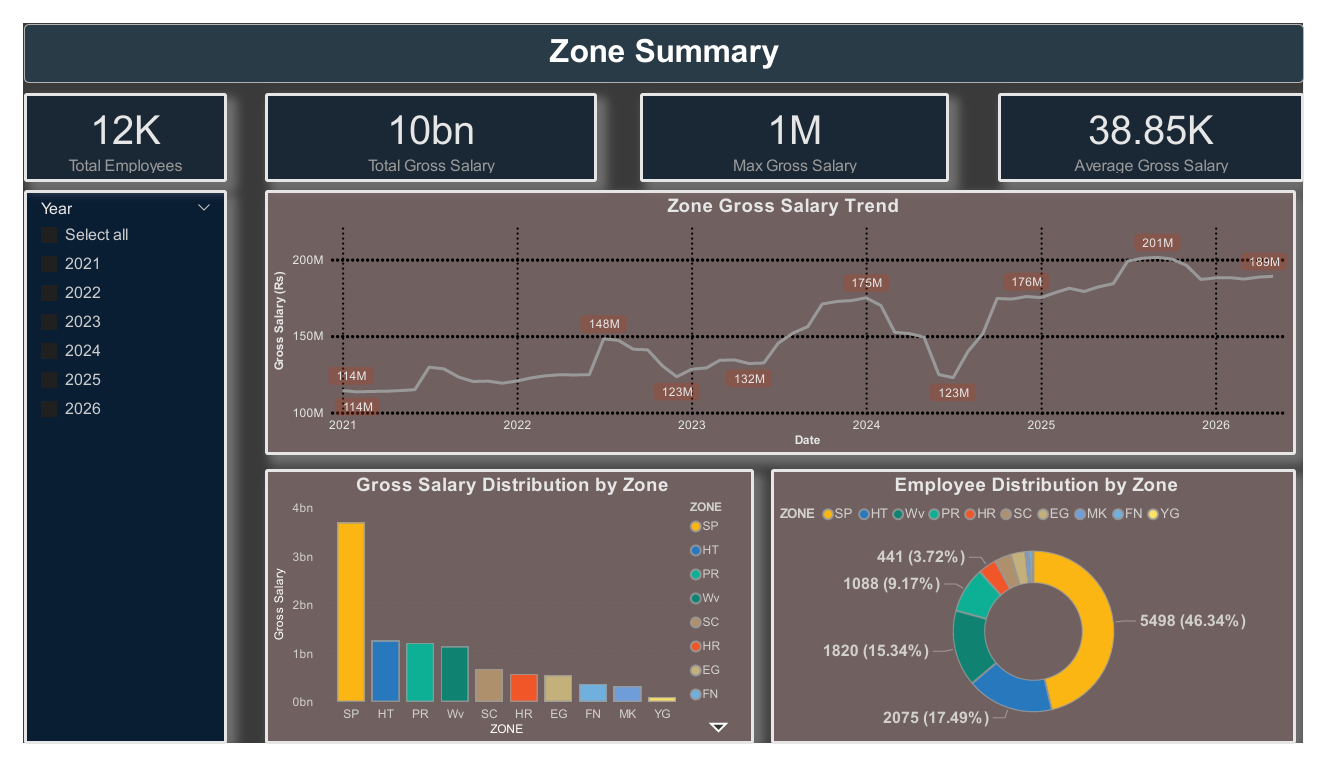

Layout of this report page (visuals, bound fields, positions):
{"tool":"powerbi","page":{"name":"Zone Summary","canvas":[1280,720],"ordinal":10},"visuals":[{"type":"textbox","box":[0,0,1280,59.1],"z":0},{"type":"columnChart","title":"Gross Salary Distribution by Zone","fields":{"Y":["Sum(AI_PAYROLL_DATA.GROSS_SALARY)"],"Category":["AI_PAYROLL_DATA.ZONE"],"Series":["AI_PAYROLL_DATA.ZONE"]},"box":[241.3,445.2,488.6,275.1],"z":1000},{"type":"slicer","fields":{"Values":["DateTable.Year"]},"box":[0,166.5,202.7,553.8],"z":2000},{"type":"card","fields":{"Values":["AI_PAYROLL_DATA.Total Employees"]},"box":[0,68.8,202.7,89.3],"z":3000},{"type":"card","fields":{"Values":["AI_PAYROLL_DATA.Average Gross Salary"]},"box":[973.6,68.8,306.4,89.3],"z":4000},{"type":"card","fields":{"Values":["AI_PAYROLL_DATA.Total Gross Salary"]},"box":[241.3,68.8,331.8,89.3],"z":5000},{"type":"card","fields":{"Values":["AI_PAYROLL_DATA.Max Gross Salary"]},"box":[616.5,68.8,308.8,89.3],"z":6000},{"type":"lineChart","title":"Zone Gross Salary Trend","fields":{"Category":["AI_PAYROLL_DATA.SALARY_DATE"],"Y":["Sum(AI_PAYROLL_DATA.GROSS_SALARY)"]},"box":[241.3,166.5,1030.3,264.2],"z":7000},{"type":"donutChart","title":"Employee Distribution by Zone","fields":{"Category":["AI_PAYROLL_DATA.ZONE"],"Y":["AI_PAYROLL_DATA.Total Employees"]},"box":[746.8,445.2,524.8,275.1],"z":8000}]}

Visuals, with their boxes in screenshot pixels (x1, y1, x2, y2), scaled from the page's 1280x720 canvas onto the 1327x767 screenshot:
textbox: [0,0,1326,63]
"Gross Salary Distribution by Zone" columnChart: [250,474,757,766]
slicer - DateTable.Year: [0,177,210,766]
card - AI_PAYROLL_DATA.Total Employees: [0,73,210,168]
card - AI_PAYROLL_DATA.Average Gross Salary: [1009,73,1326,168]
card - AI_PAYROLL_DATA.Total Gross Salary: [250,73,594,168]
card - AI_PAYROLL_DATA.Max Gross Salary: [639,73,959,168]
"Zone Gross Salary Trend" lineChart: [250,177,1318,459]
"Employee Distribution by Zone" donutChart: [774,474,1318,766]
